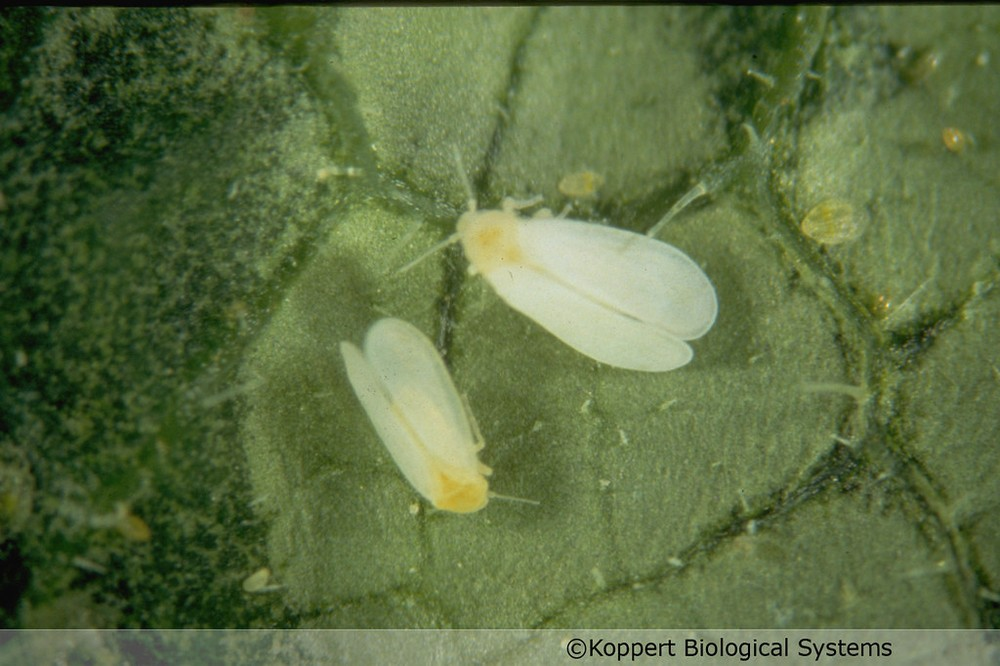Mosca Blanca: (412, 143, 750, 398), (319, 301, 551, 538)
